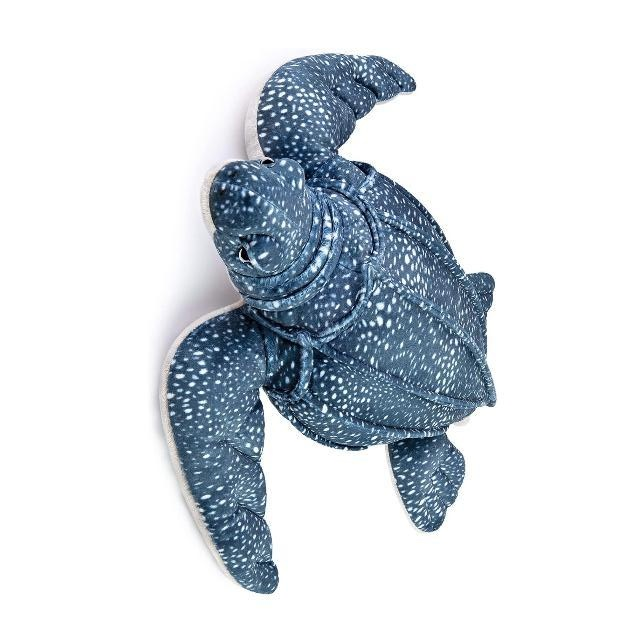turtle: (157, 54, 496, 597)
